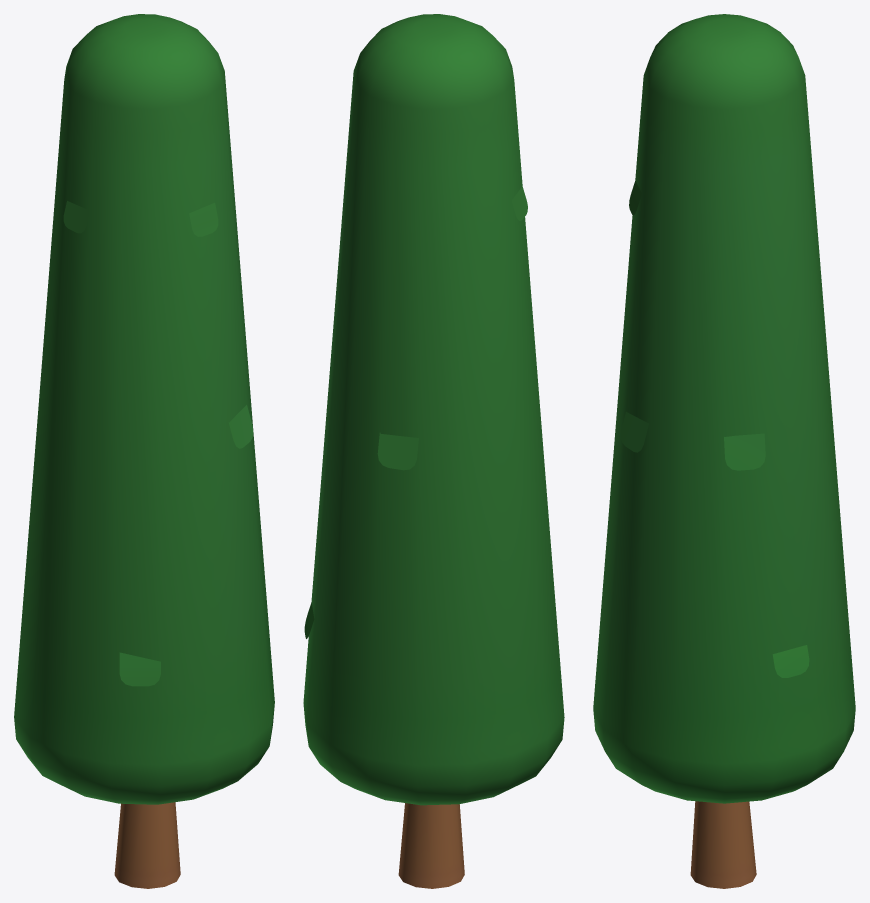
The model's file is tree-01.glb.
The picture shows the model from 3 angles, left to right: view 1: azimuth 30°, elevation 25°; view 2: azimuth 150°, elevation 25°; view 3: azimuth 270°, elevation 25°; orthographic projection.
Visible parts, largest first — view 1: tree 01; view 2: tree 01; view 3: tree 01.
Part boxes in pixels (x1=…): tree 01: x1=14, y1=14, x2=274, y2=888; tree 01: x1=303, y1=14, x2=564, y2=888; tree 01: x1=593, y1=14, x2=855, y2=888.
Size of the model in its own units: 1.27 by 4.52 by 1.27.
Materials: 1 (1 with a texture image).
